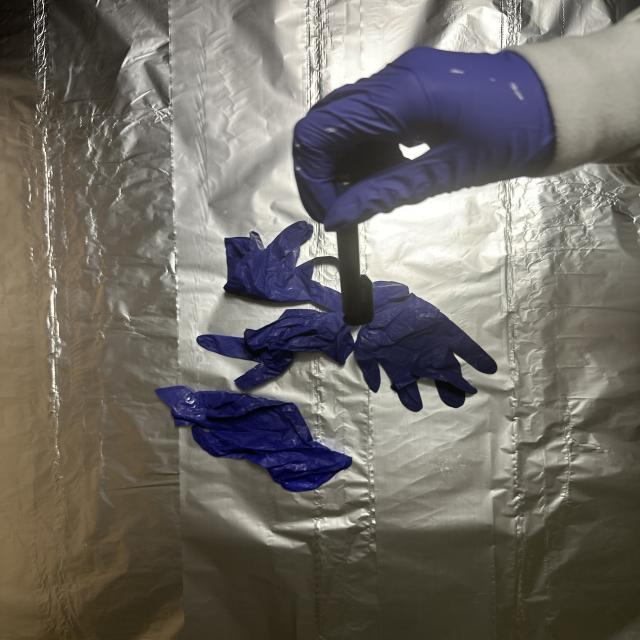gloves_contaminated: (293, 47, 555, 231)
